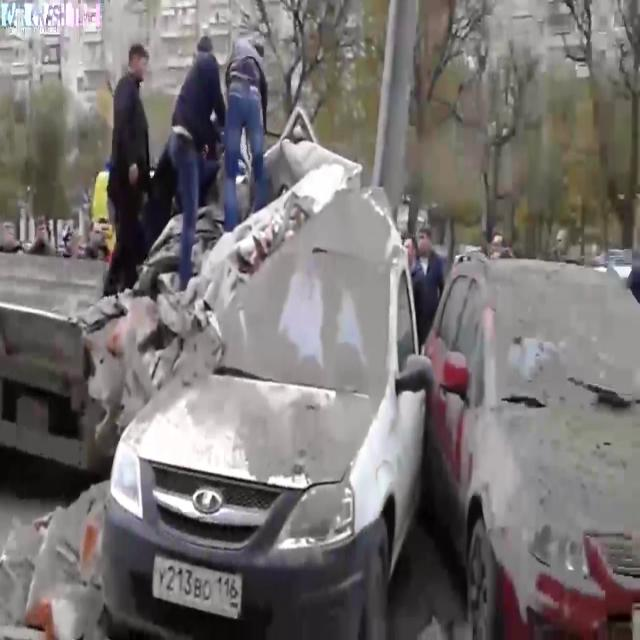Accident: (11, 4, 445, 568), (473, 226, 640, 640)
